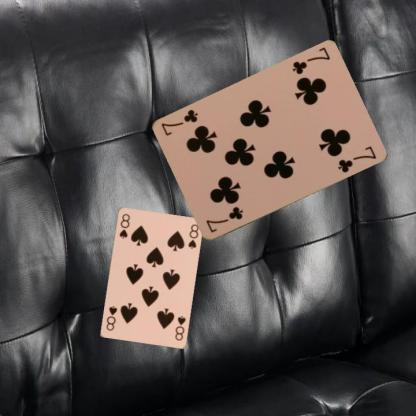7c: (290, 45, 331, 76), (204, 204, 244, 235)
8s: (172, 313, 187, 342), (117, 211, 131, 239)
